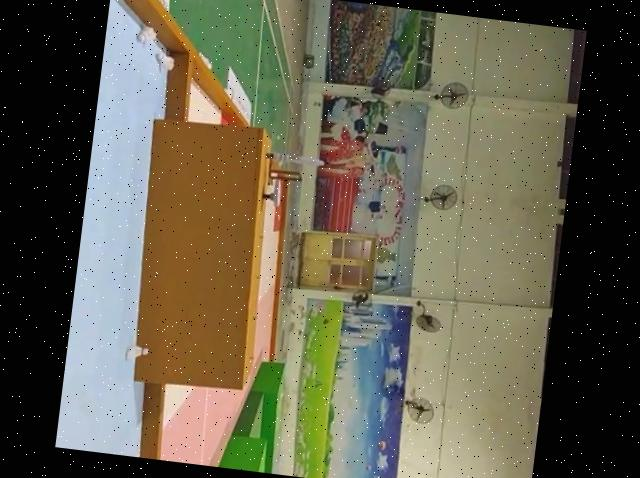Hand: (262, 177, 282, 207)
Sph: (262, 150, 325, 167)
